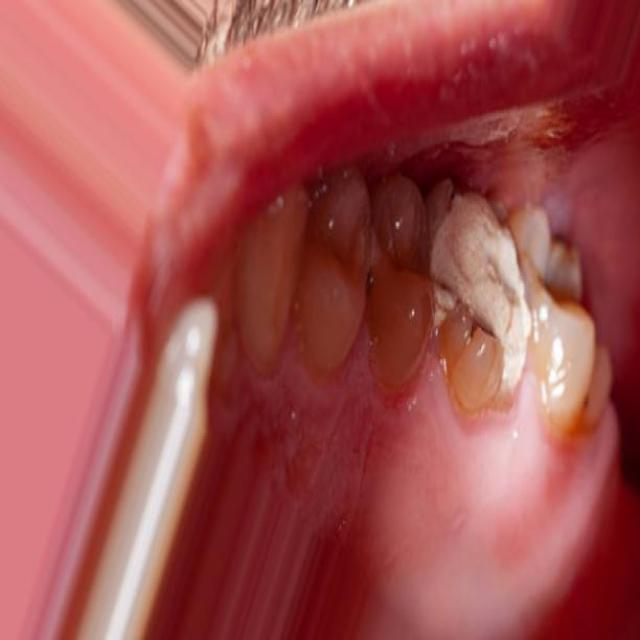caries: (430, 197, 536, 387)
